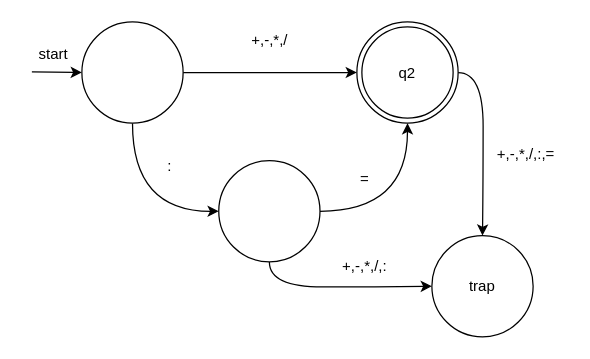
This 590x359 diagram has some shape labels left out. The shapes that lost their labels are listed below. From the top down, each one's centre as x and y in pixels, then its label:
At (132,72): "q0".
At (269,210): "q1".
